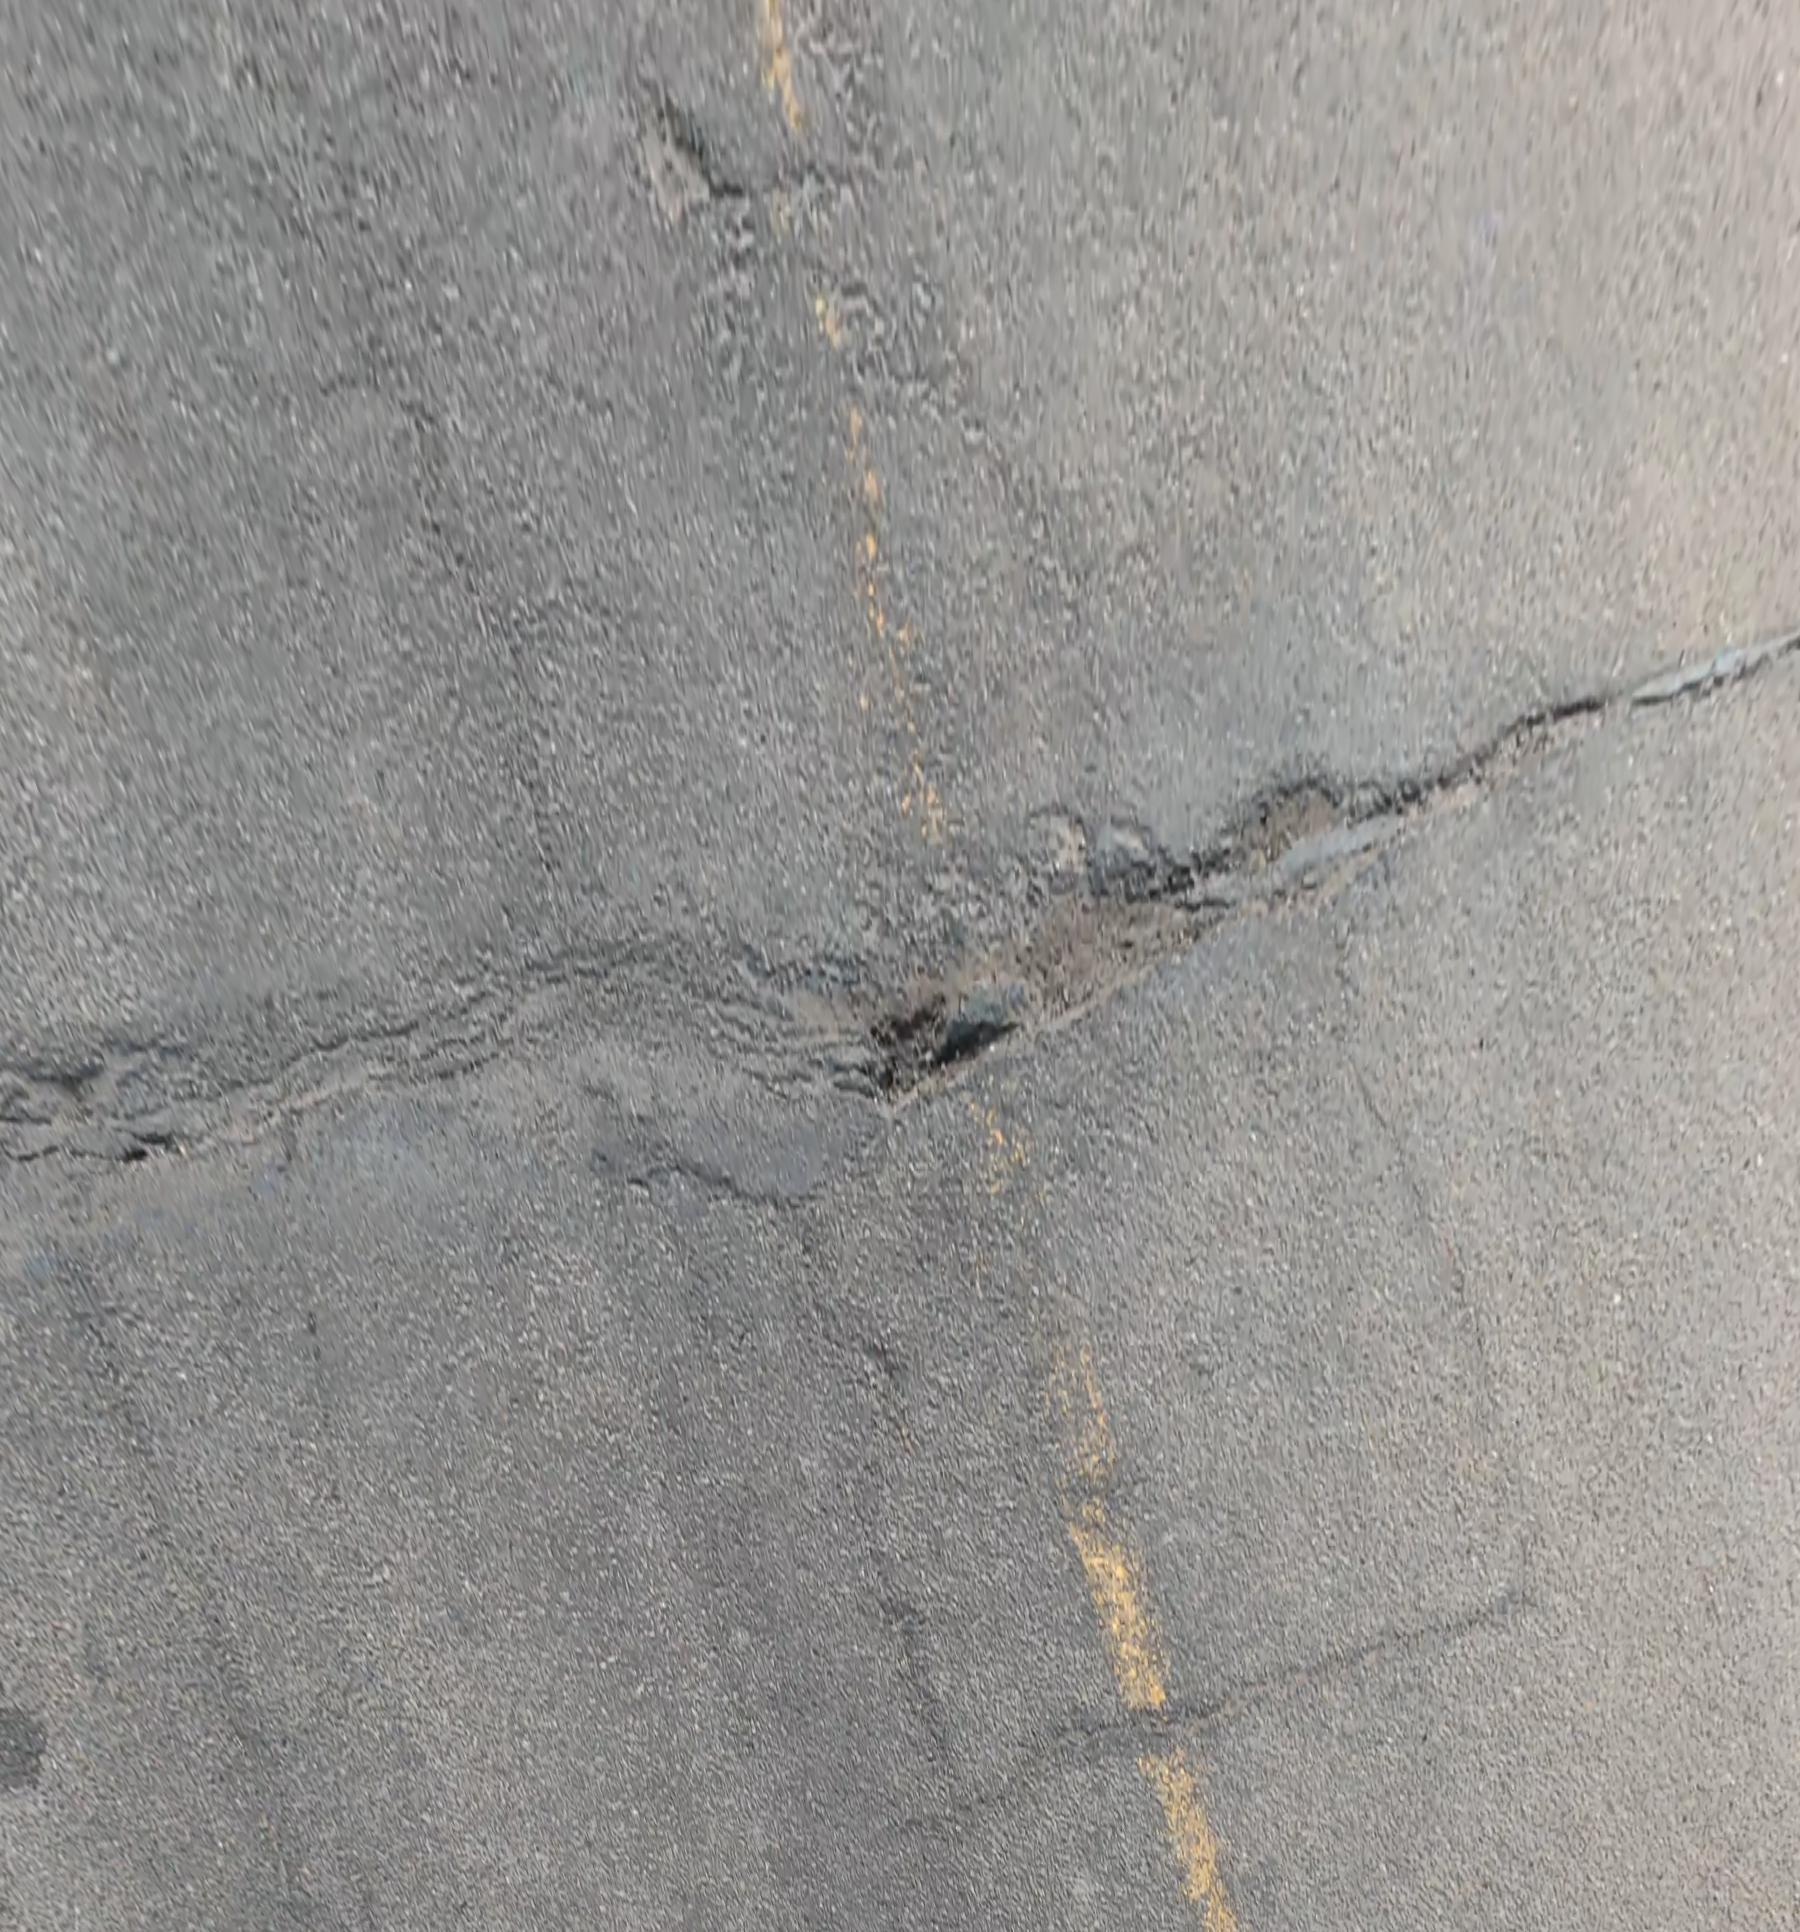pothole: (766, 778, 1406, 1117), (619, 73, 716, 227)
